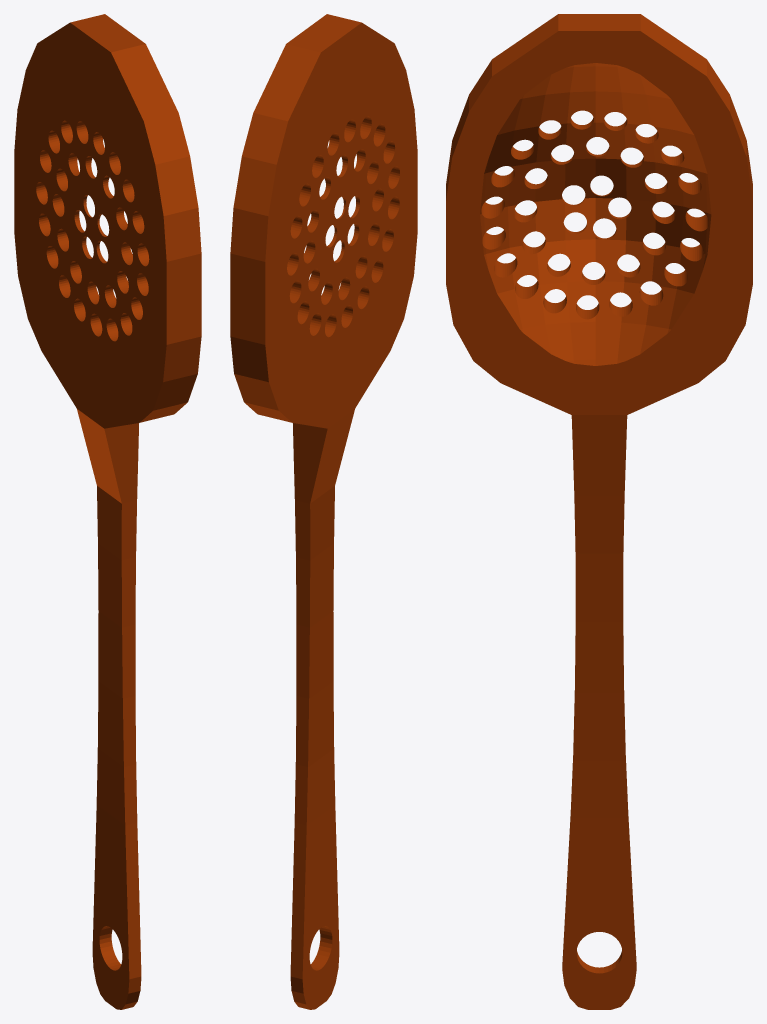
The model's file is ustensilwood_003.glb.
3 renders of one model, left to right at view 1: azimuth 30°, elevation 25°; view 2: azimuth 150°, elevation 25°; view 3: azimuth 270°, elevation 25°, orthographic.
Parts seen in each view (by area): view 1: ustensilwood_003; view 2: ustensilwood_003; view 3: ustensilwood_003.
Boxes of the visible parts, <box> form: ustensilwood_003: <box>14,14,201,1009</box>; ustensilwood_003: <box>230,14,417,1009</box>; ustensilwood_003: <box>446,14,752,1009</box>.
Bounding box in the file's own units: 0.0088 × 0.2343 × 0.0665.
